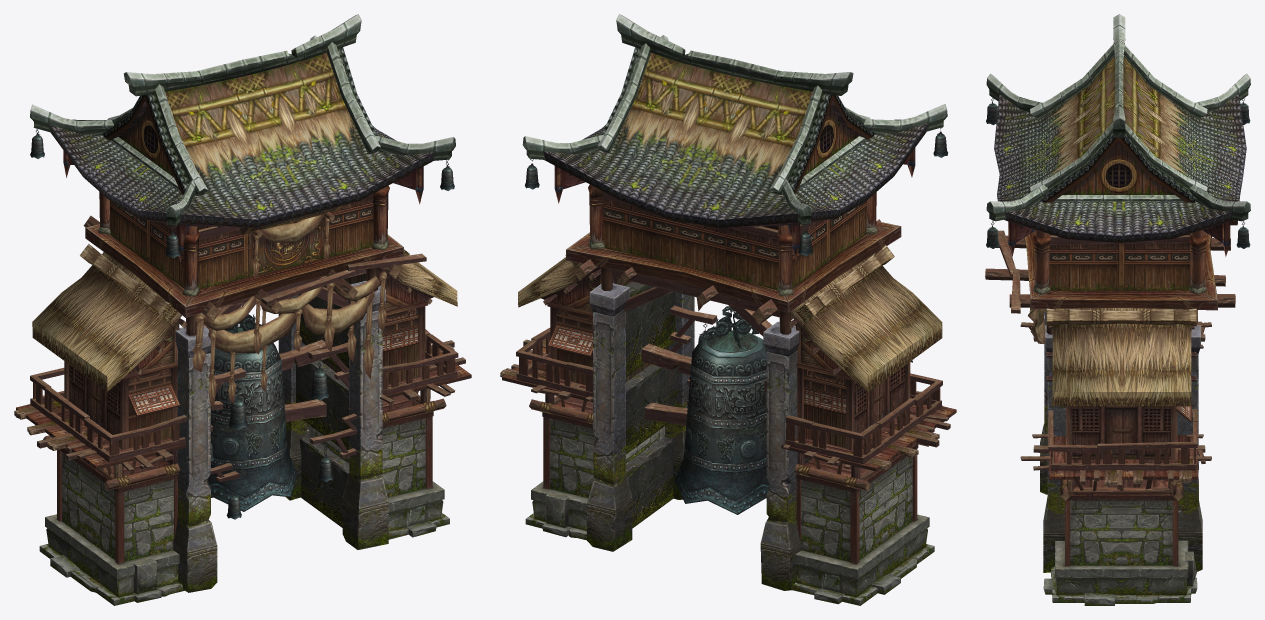
The model's file is Maincity03_Building_02_LOD0.FBX.
3 views of the same model, side by side, from view 1: azimuth 30°, elevation 25°; view 2: azimuth 150°, elevation 25°; view 3: azimuth 270°, elevation 25° (orthographic). The views are drawn at different scales.
Parts seen in each view (by area): view 1: QYZ_CMC_A_02_LOD0; view 2: QYZ_CMC_A_02_LOD0; view 3: QYZ_CMC_A_02_LOD0.
Part boxes in pixels (<box>): QYZ_CMC_A_02_LOD0: <box>14,14,471,605</box>; QYZ_CMC_A_02_LOD0: <box>500,14,956,605</box>; QYZ_CMC_A_02_LOD0: <box>985,14,1250,605</box>.
Size of the model in its own units: 1548 by 1774 by 929.
